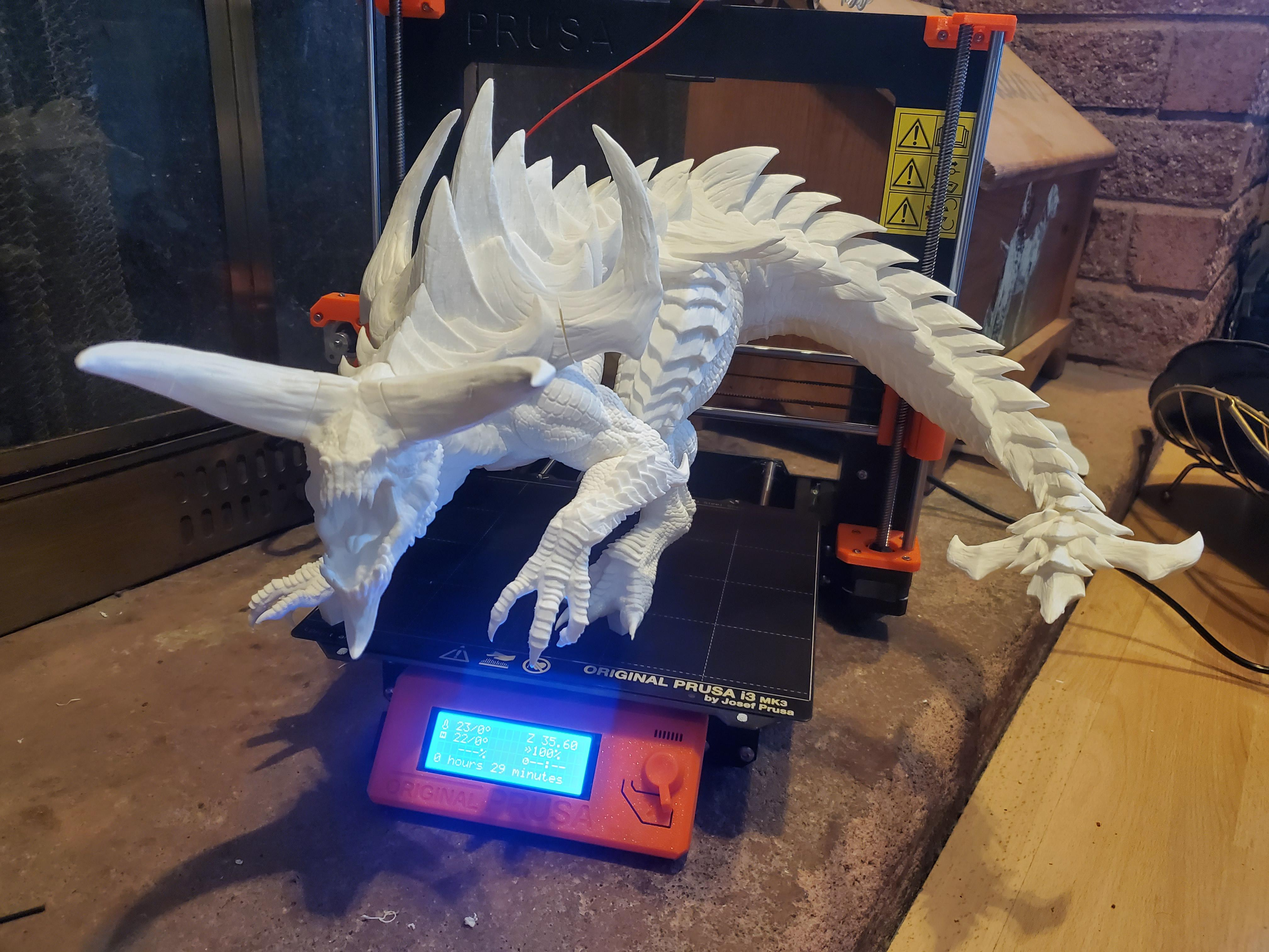3d print: (78, 84, 1202, 661)
